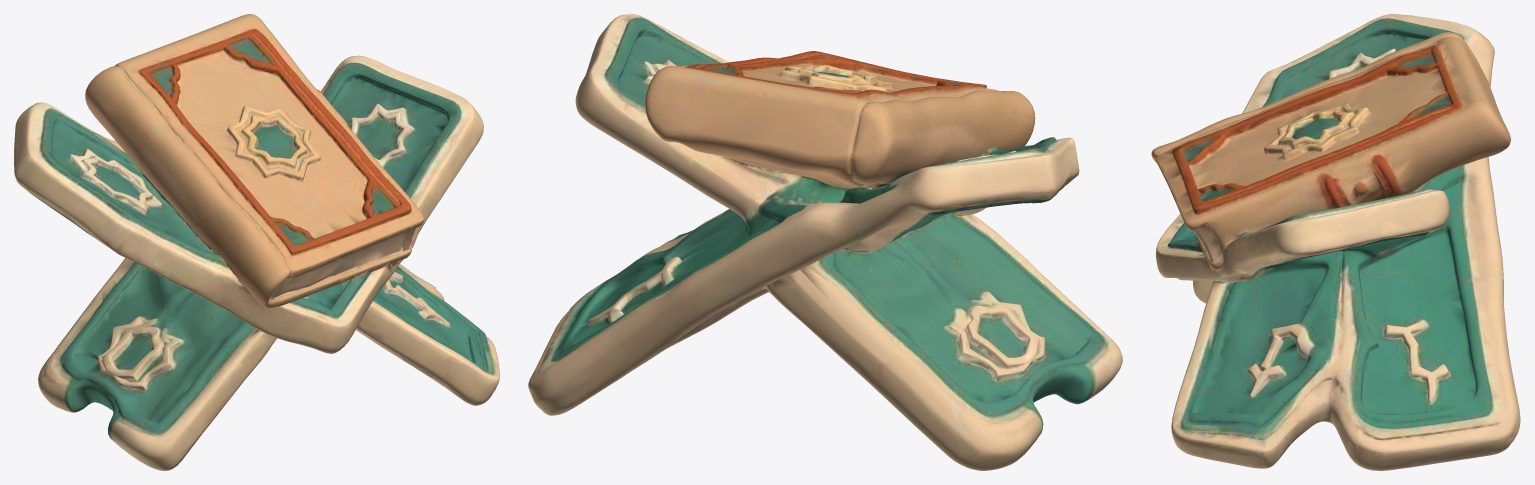
Rendered from rehal-quran-variant-07-closed-sand-book.glb.
The picture shows the model from 3 angles, left to right: view 1: azimuth 30°, elevation 25°; view 2: azimuth 150°, elevation 25°; view 3: azimuth 270°, elevation 25°; orthographic projection. The views are drawn at different scales.
Parts seen in each view (by area): view 1: mesh_node; view 2: mesh_node; view 3: mesh_node.
Part boxes in pixels (box(x1,y1,x2,y2)): mesh_node: box(14, 14, 499, 470); mesh_node: box(528, 14, 1122, 470); mesh_node: box(1151, 14, 1520, 470).
Bounding box in the file's own units: 1.9 × 1.32 × 1.43.
Materials: 1 (1 with a texture image).
